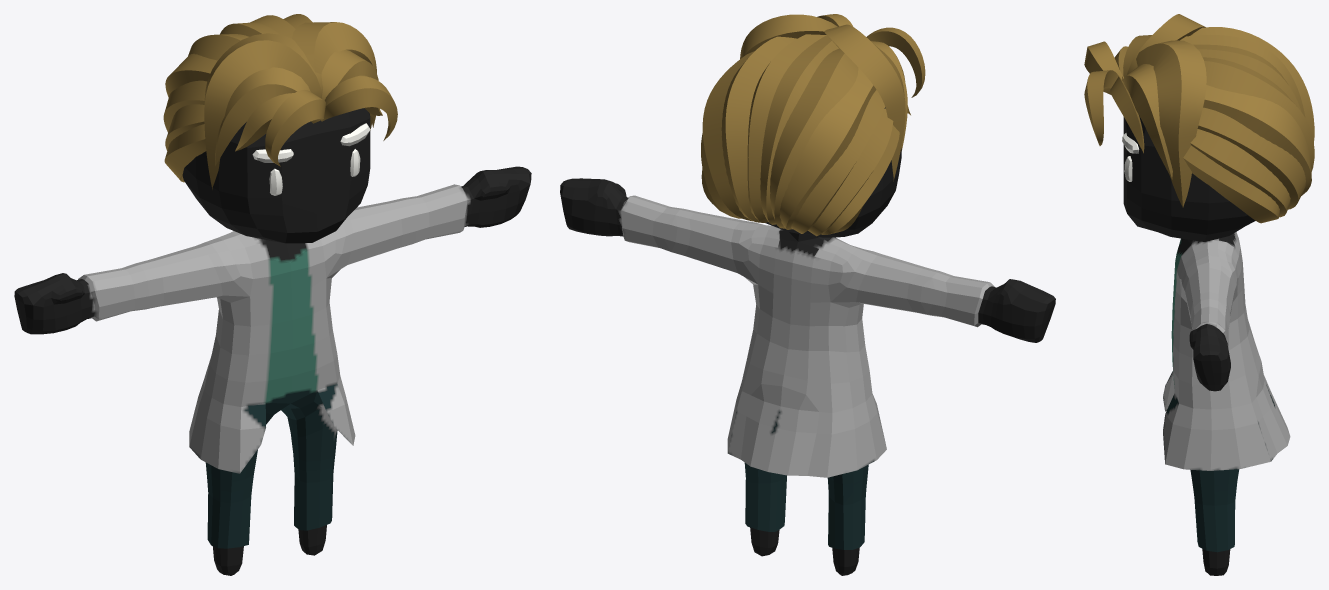
The model's file is Doctor_Male_Young.fbx.
The picture shows the model from 3 angles, left to right: view 1: azimuth 30°, elevation 25°; view 2: azimuth 150°, elevation 25°; view 3: azimuth 270°, elevation 25°; orthographic projection. The views are drawn at different scales.
Parts seen in each view (by area): view 1: Body; view 2: Body; view 3: Body.
Boxes of the visible parts, box(x1,y1,x2,y2) form: Body: box(14, 14, 531, 575); Body: box(560, 14, 1055, 575); Body: box(1084, 14, 1314, 575).
Size of the model in its own units: 324 by 333 by 132.
1 material, 1 textured.
